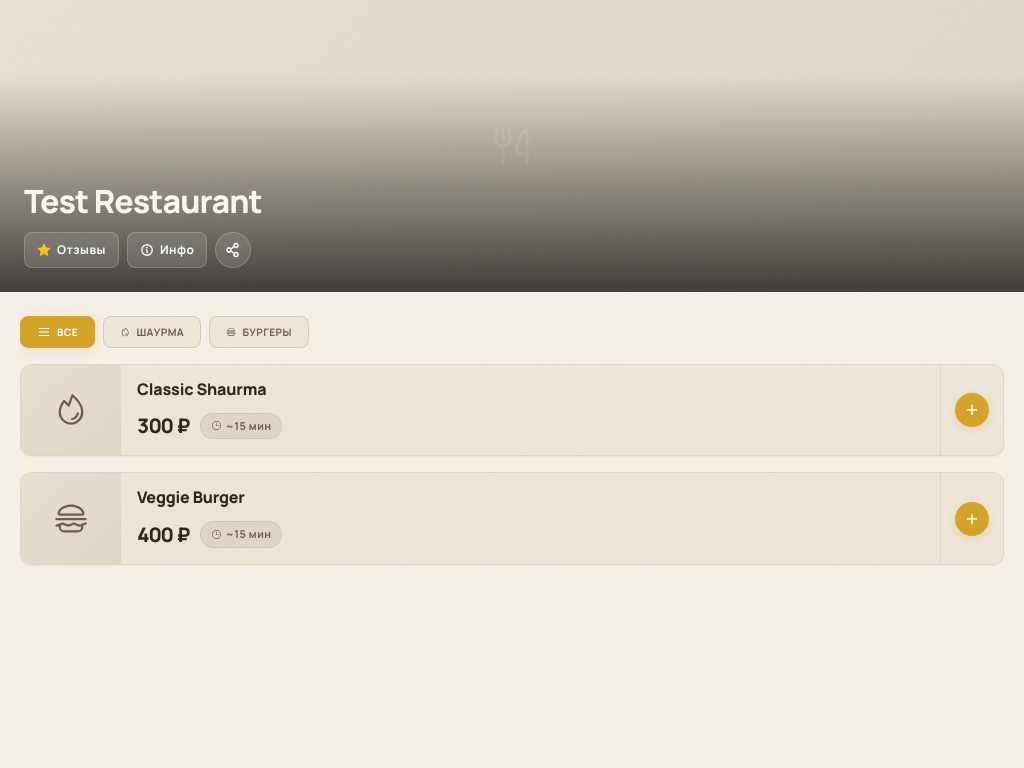
Test: RestaurantPage › filters menu items by category
Expected: the heading "Test Restaurant" is shown, [24,179,262,223]
Expected: the text "Classic Shaurma" is shown, [137,379,266,400]
Click the button "Бургеры": (259, 332) [209,316,309,348]
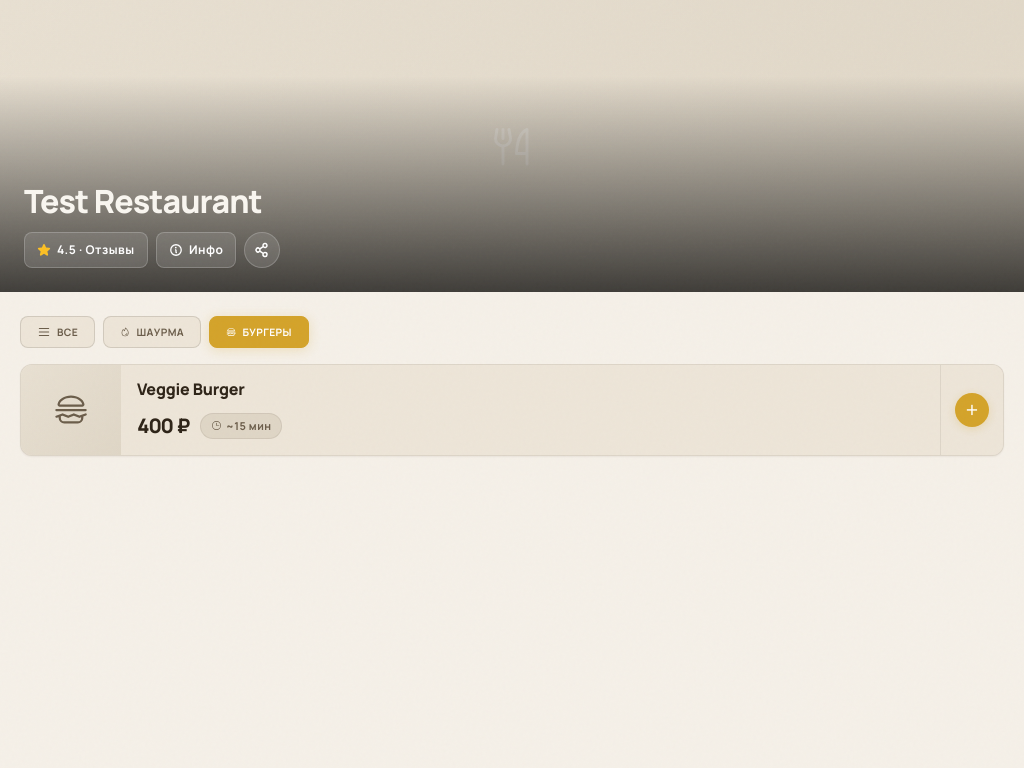
Expected: the text "Veggie Burger" is shown, [137,379,245,400]
Expected: the button "Classic Shaurma" is gone
